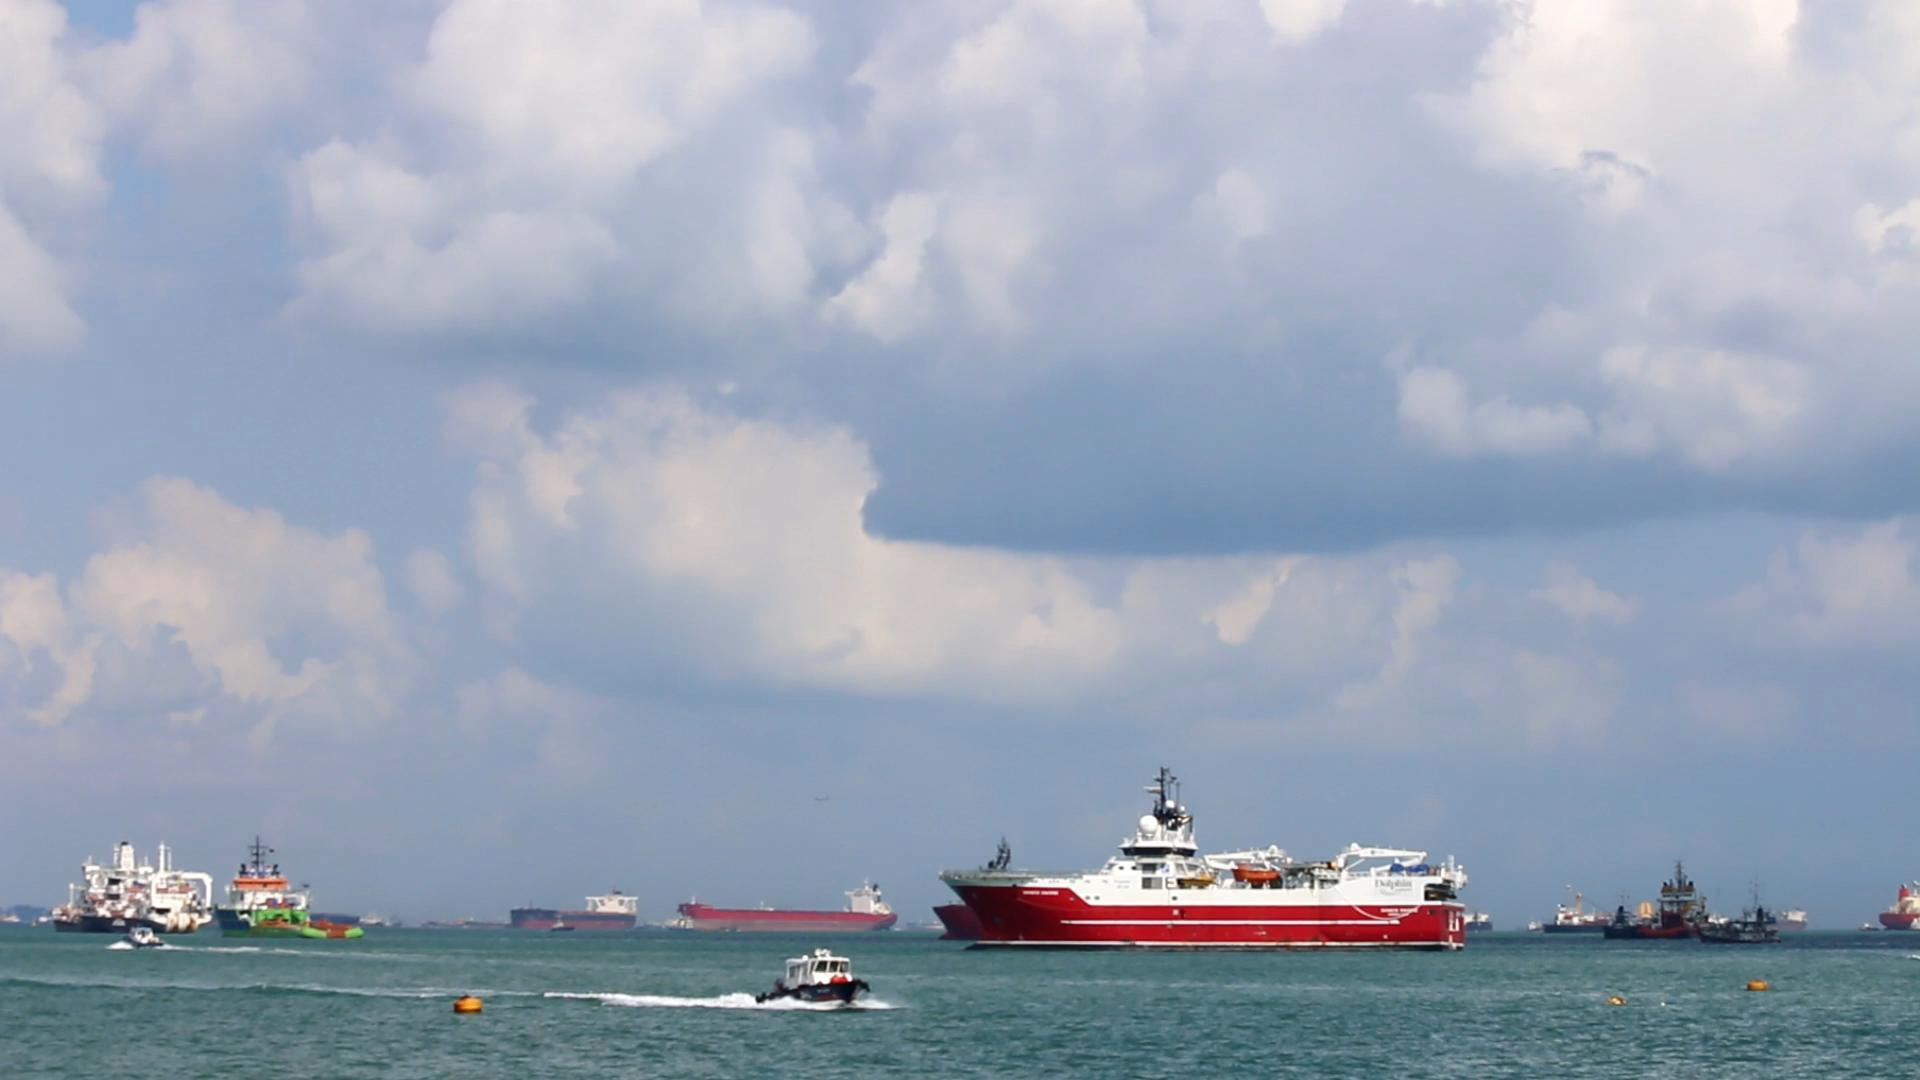Container Ship: (927, 756, 1493, 967), (45, 828, 224, 939), (229, 832, 382, 945), (676, 874, 916, 945), (1585, 856, 1734, 953), (489, 881, 663, 939), (1677, 876, 1797, 955), (1542, 878, 1631, 947)
